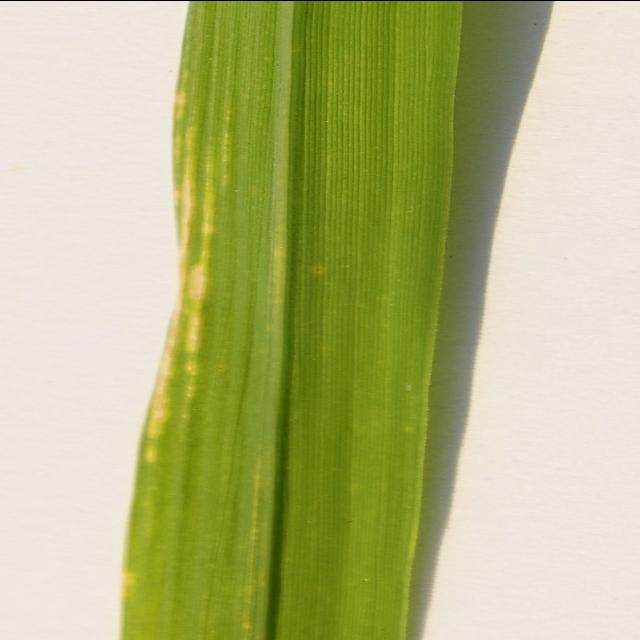Unhealthy: (148, 298, 182, 437), (176, 155, 195, 299), (189, 262, 207, 308), (202, 177, 215, 240), (187, 311, 202, 352), (119, 570, 135, 599), (172, 88, 185, 120), (186, 114, 195, 153), (173, 133, 182, 167), (204, 145, 213, 177), (145, 444, 160, 461), (186, 361, 199, 373), (180, 69, 190, 79), (186, 392, 192, 396), (187, 385, 193, 389), (183, 415, 188, 418), (203, 249, 205, 256)
